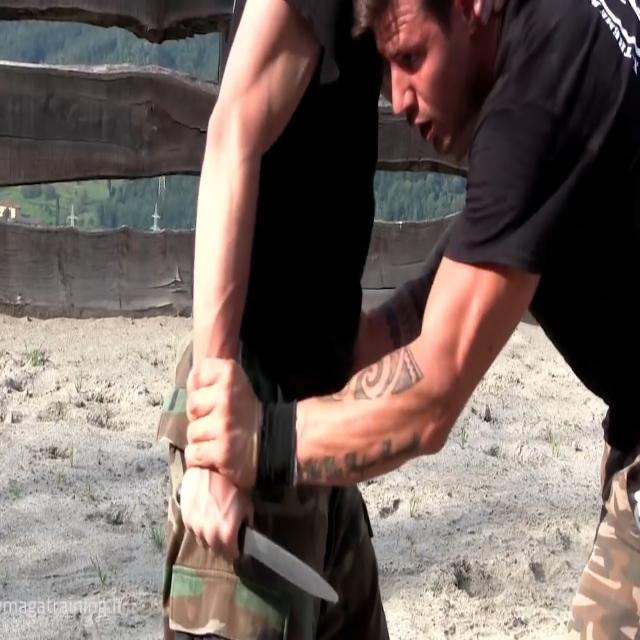knife: (243, 510, 343, 613)
